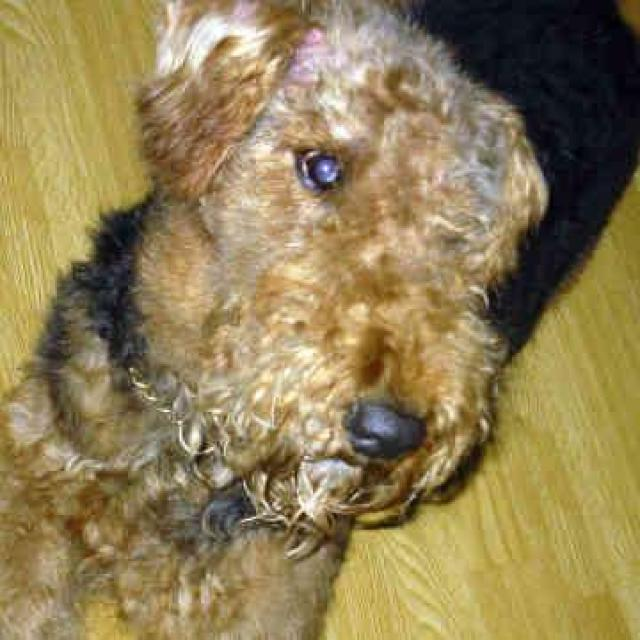airedale: (0, 4, 551, 638)
